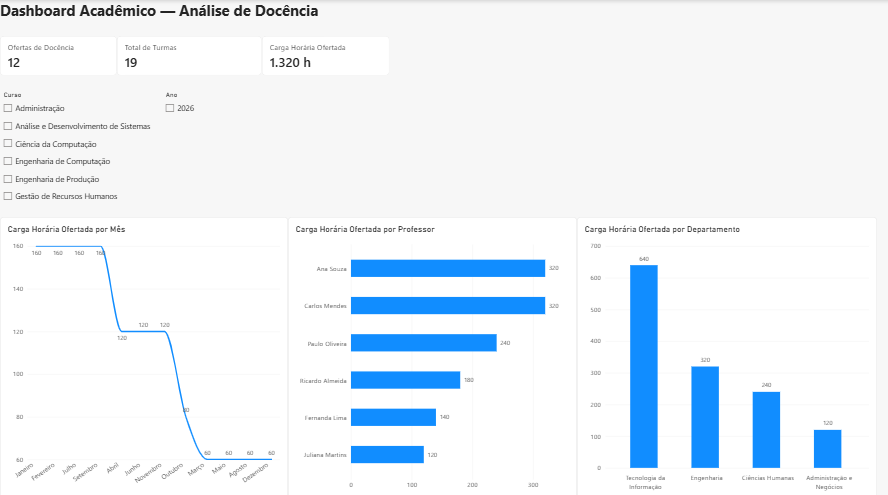

This screenshot's page, from the dashboard's own definition file:
{"tool":"powerbi","page":{"name":"Página 1","canvas":[1920,1080],"ordinal":0},"visuals":[{"type":"cardVisual","fields":{"Data":["universidade_star_schema dim_curso.Registros de Docência"]},"box":[0,77.5,252.5,85],"z":0},{"type":"cardVisual","fields":{"Data":["universidade_star_schema fato_docencia.Total de Turmas"]},"box":[252.5,77.5,312.5,85],"z":1000},{"type":"cardVisual","title":"Carga Horária Total","fields":{"Data":["universidade_star_schema dim_curso.Carga Horária Card"]},"box":[565,77.5,275,85],"z":2000},{"type":"lineChart","title":"Carga Horária Ofertada por Mês","fields":{"Category":["universidade_star_schema dim_data.nome_mes"],"Y":["universidade_star_schema fato_docencia.Carga Horária Total"]},"box":[0,469.6,621.7,610.9],"z":3000},{"type":"clusteredBarChart","title":"Carga Horária Ofertada por Professor","fields":{"Category":["universidade_star_schema dim_professor.nome_professor"],"Y":["universidade_star_schema fato_docencia.Carga Horária Total"]},"box":[621.7,469.6,623.9,610.9],"z":4000},{"type":"clusteredColumnChart","title":"Carga Horária Ofertada por Departamento","fields":{"Category":["universidade_star_schema dim_departamento.nome_departamento"],"Y":["universidade_star_schema fato_docencia.Carga Horária Total"]},"box":[1245.7,469.6,647.8,610.9],"z":5000},{"type":"slicer","fields":{"Values":["universidade_star_schema dim_curso.nome_curso"]},"box":[0,195.7,350,258.7],"z":6000},{"type":"slicer","fields":{"Values":["universidade_star_schema dim_data.ano"]},"box":[350,195.7,350,258.7],"z":7000},{"type":"textbox","box":[0,0,700,77.5],"z":8000}]}

Visuals, with their boxes in screenshot pixels (x1, y1, x2, y2), scaled from the page's 1920x1080 canvas onto the 888x495 screenshot:
cardVisual - universidade_star_schema dim_curso.Registros de Docência: 0/36/117/74
cardVisual - universidade_star_schema fato_docencia.Total de Turmas: 117/36/261/74
"Carga Horária Total" cardVisual: 261/36/388/74
"Carga Horária Ofertada por Mês" lineChart: 0/215/288/494
"Carga Horária Ofertada por Professor" clusteredBarChart: 288/215/576/494
"Carga Horária Ofertada por Departamento" clusteredColumnChart: 576/215/876/494
slicer - universidade_star_schema dim_curso.nome_curso: 0/90/162/208
slicer - universidade_star_schema dim_data.ano: 162/90/324/208
textbox: 0/0/324/36
